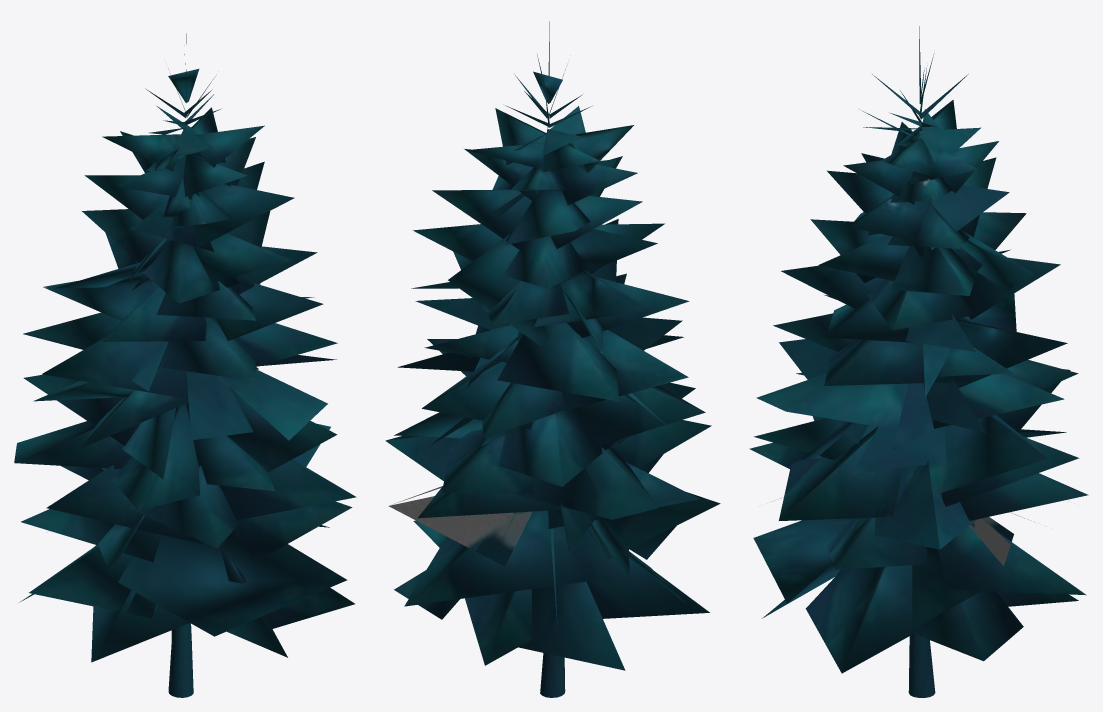
File: pine.glb
The picture shows the model from 3 angles, left to right: view 1: azimuth 30°, elevation 25°; view 2: azimuth 150°, elevation 25°; view 3: azimuth 270°, elevation 25°; orthographic projection.
Bounding box in the file's own units: 0.4463 × 0.9536 × 0.4312.
1 material, 1 textured.
